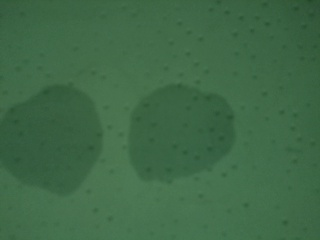Water_detected: (132, 101, 210, 172), (18, 104, 82, 183)
